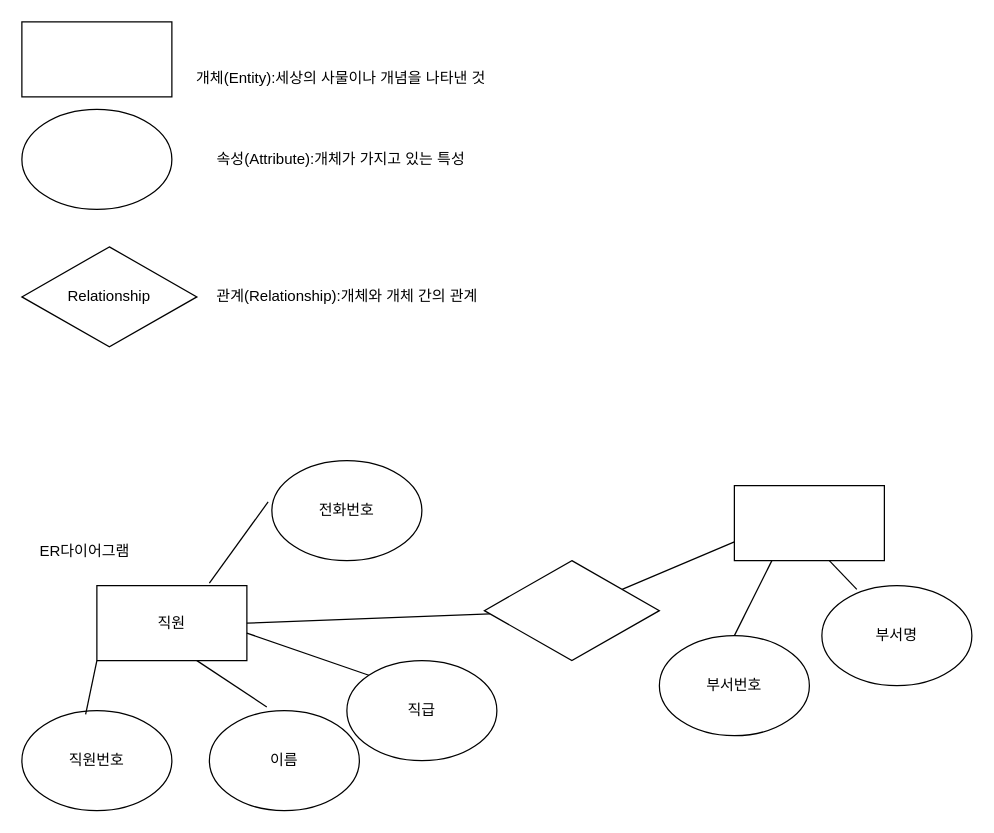
The diagram is 994 pixels wide and 833 high, and some of its shapes have lost their labels. Here are the shapes that lost their labels. From the top down, the box of each, then its label:
(21, 21, 172, 97): Entity
(21, 108, 172, 209): Attribute
(733, 484, 884, 561): 부서
(483, 559, 659, 661): 소속
